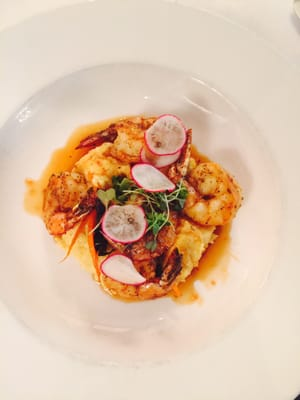curry: (0, 2, 299, 366)
sandwich: (28, 113, 242, 303)
